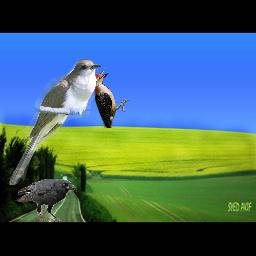Crow: (15, 179, 77, 222)
Cuckoo: (8, 59, 101, 186)
Woodpecker: (91, 68, 130, 128)
